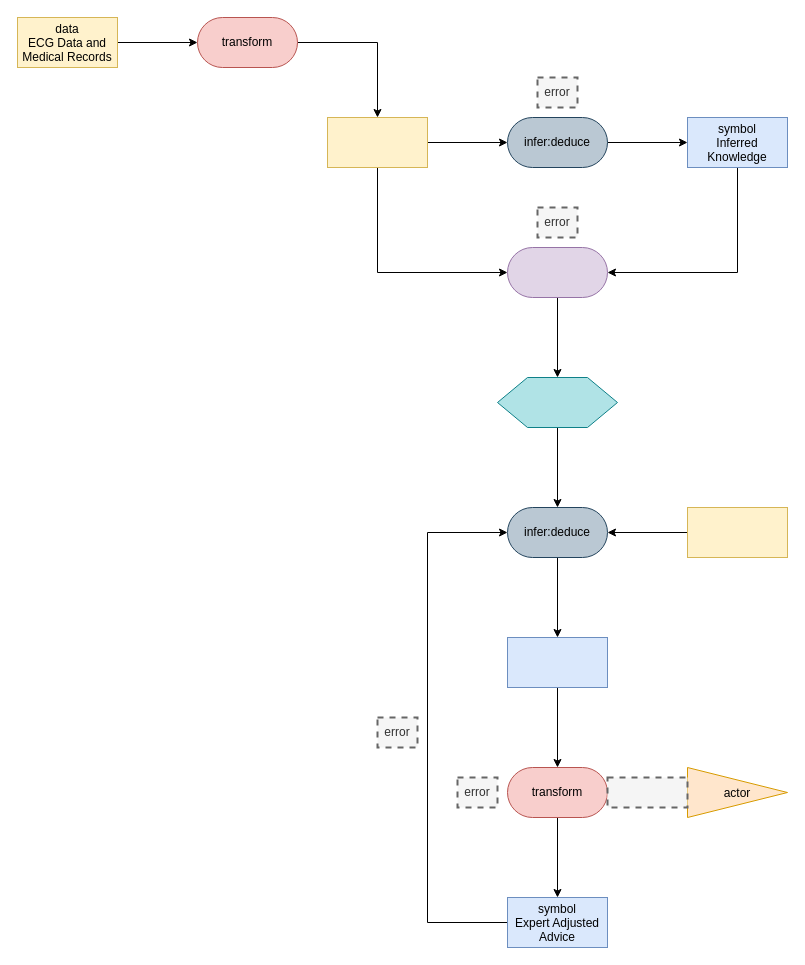
The diagram is 805 pixels wide and 965 high, and some of its shapes have lost their labels. The shapes that lost their labels are listed below. From the top down, each one's centre as x and y in pixels, then its label:
At [377,142]: "data Structured Representation".
At [557,272]: "generate:train".
At [557,402]: "model:hybrid LCS".
At [737,532]: "data Patient ECG and Medical Data".
At [557,662]: "symbol Decision Support Recommendation".
At [647,792]: "error <--".
